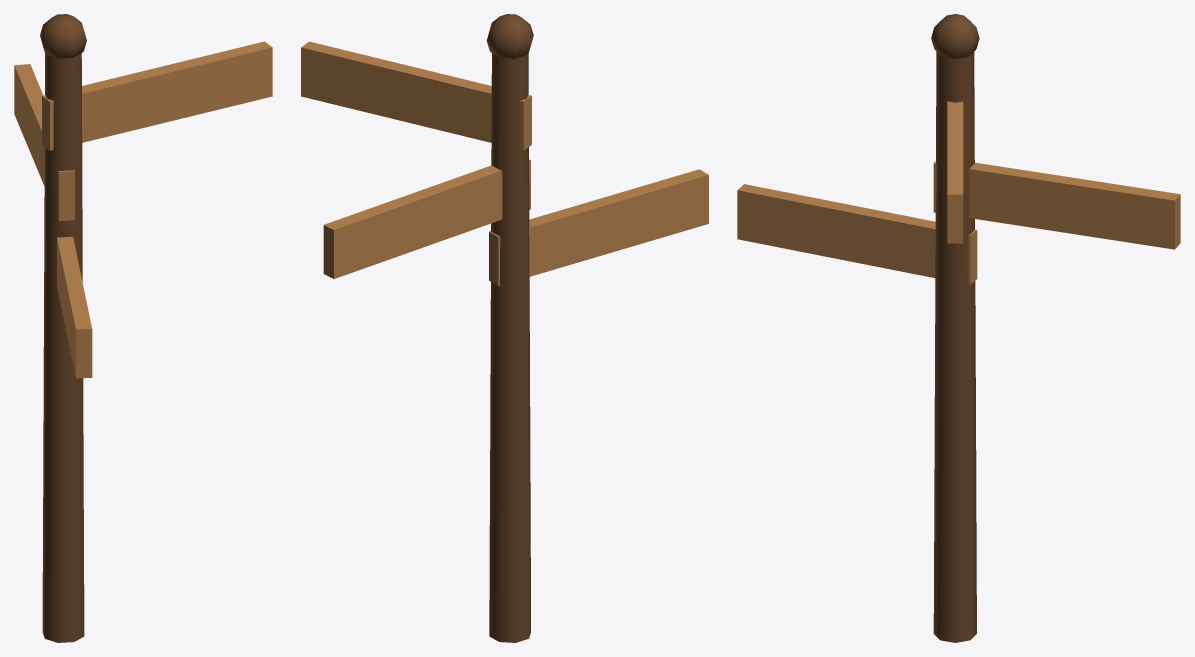
File: prop_signpost.glb
3 views of the same model, side by side, from view 1: azimuth 30°, elevation 25°; view 2: azimuth 150°, elevation 25°; view 3: azimuth 270°, elevation 25° (orthographic).
Visible parts, largest first — view 1: Prop_Signpost; view 2: Prop_Signpost; view 3: Prop_Signpost.
Boxes of the visible parts, box(x1,y1,x2,y2) form: Prop_Signpost: box(14, 14, 272, 642); Prop_Signpost: box(301, 14, 708, 642); Prop_Signpost: box(737, 14, 1180, 642).
Bounding box in the file's own units: 1.27 × 2.52 × 1.64.
